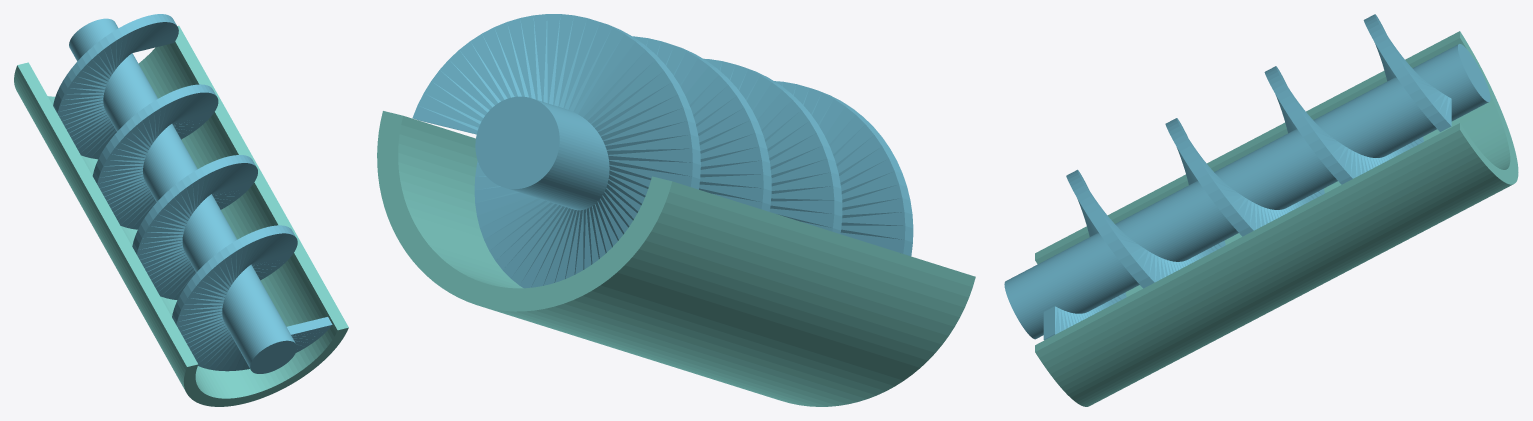
File: archimedes_screw_demo.glb
The picture shows the model from 3 angles, left to right: view 1: azimuth 30°, elevation 25°; view 2: azimuth 150°, elevation 25°; view 3: azimuth 270°, elevation 25°; orthographic projection. The views are drawn at different scales.
Visible parts, largest first — view 1: screw_flight, half_pipe_trough; view 2: screw_flight, half_pipe_trough; view 3: half_pipe_trough, screw_flight.
Part boxes in pixels (x1=…): screw_flight: x1=53, y1=14, x2=332, y2=373; half_pipe_trough: x1=14, y1=25, x2=348, y2=406; screw_flight: x1=412, y1=14, x2=913, y2=288; half_pipe_trough: x1=377, y1=111, x2=975, y2=406; half_pipe_trough: x1=1035, y1=31, x2=1518, y2=406; screw_flight: x1=1004, y1=14, x2=1490, y2=340.
Bounding box in the file's own units: 28.6 × 50.49 × 62.84.
